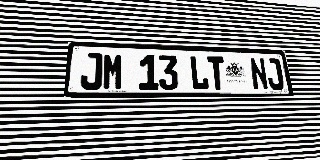1: (139, 54, 159, 90)
3: (158, 55, 178, 90)
J: (80, 52, 103, 90), (265, 58, 285, 90)
L: (189, 56, 209, 90)
M: (102, 53, 123, 90)
N: (249, 58, 269, 90)
T: (207, 56, 227, 90)
